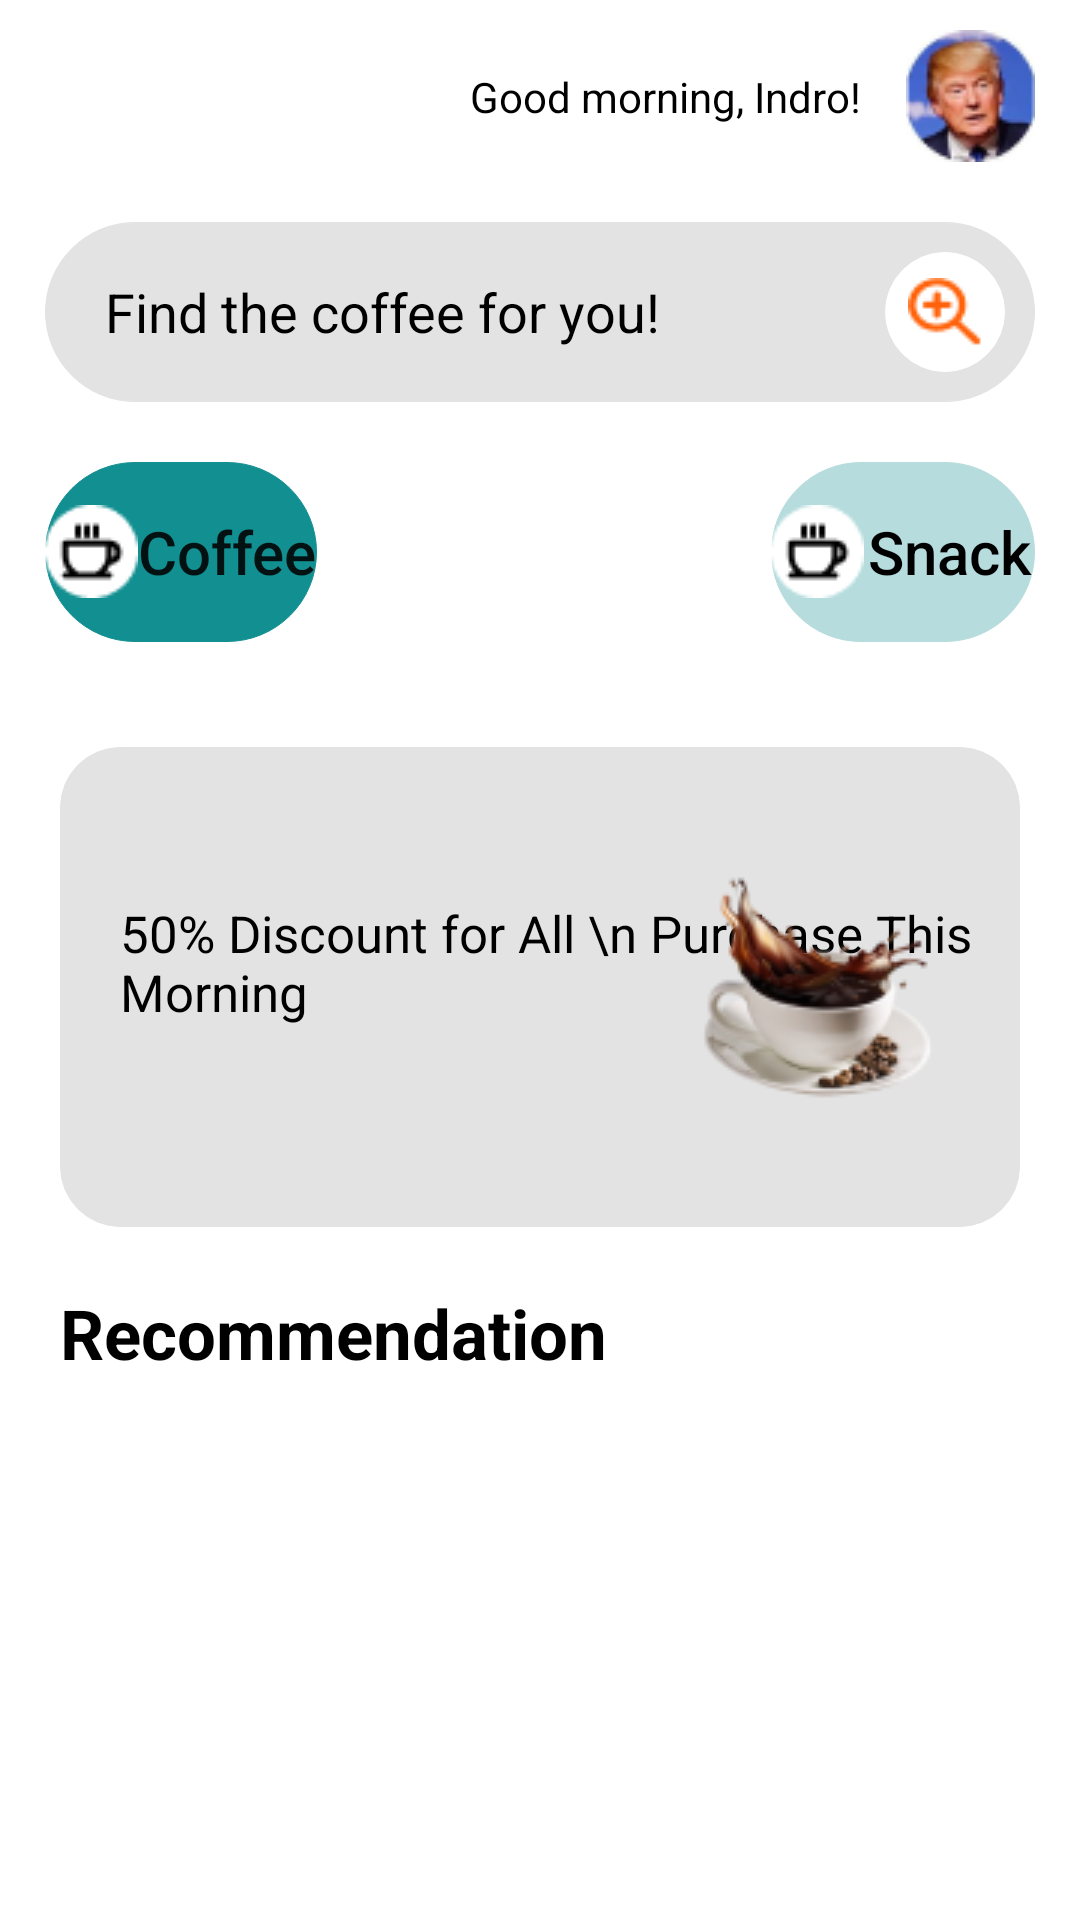

Named icons in this screenshot (1080px x 1920px) and their centers, point (x, y):
cup of coffee: point (814, 987)
